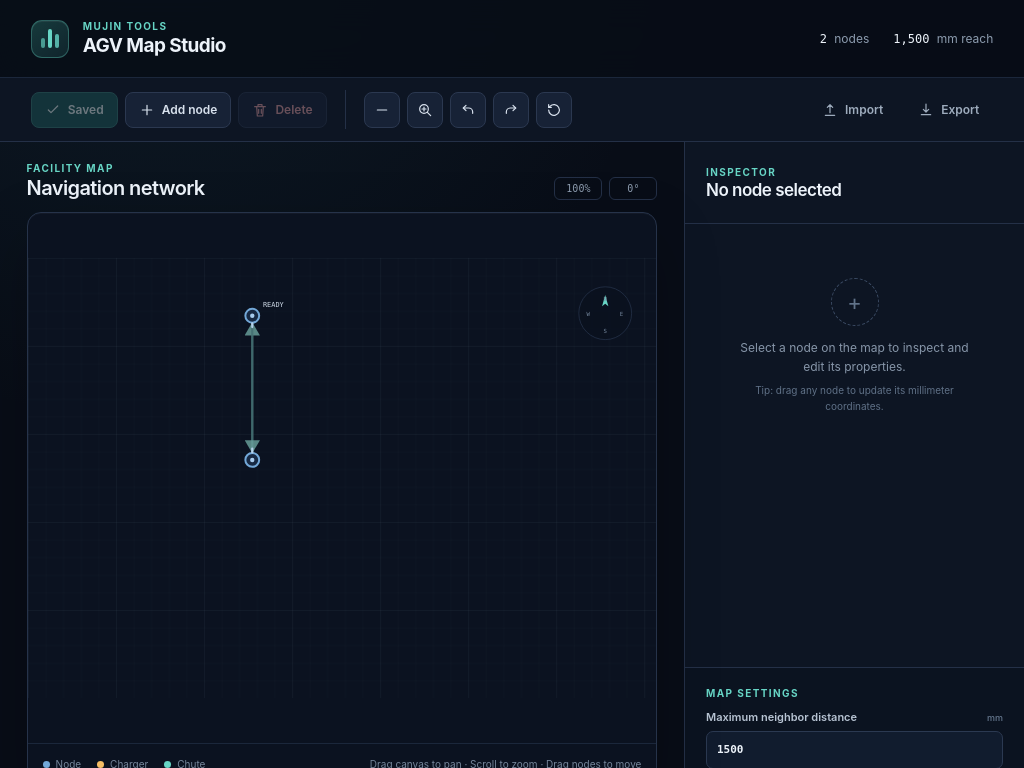
Test: App › keeps the draft available when a save fails
Replace the text in the number field labelled "Maximum neighbor distance" with "2200" at (854, 750), box [706,731,1003,767]
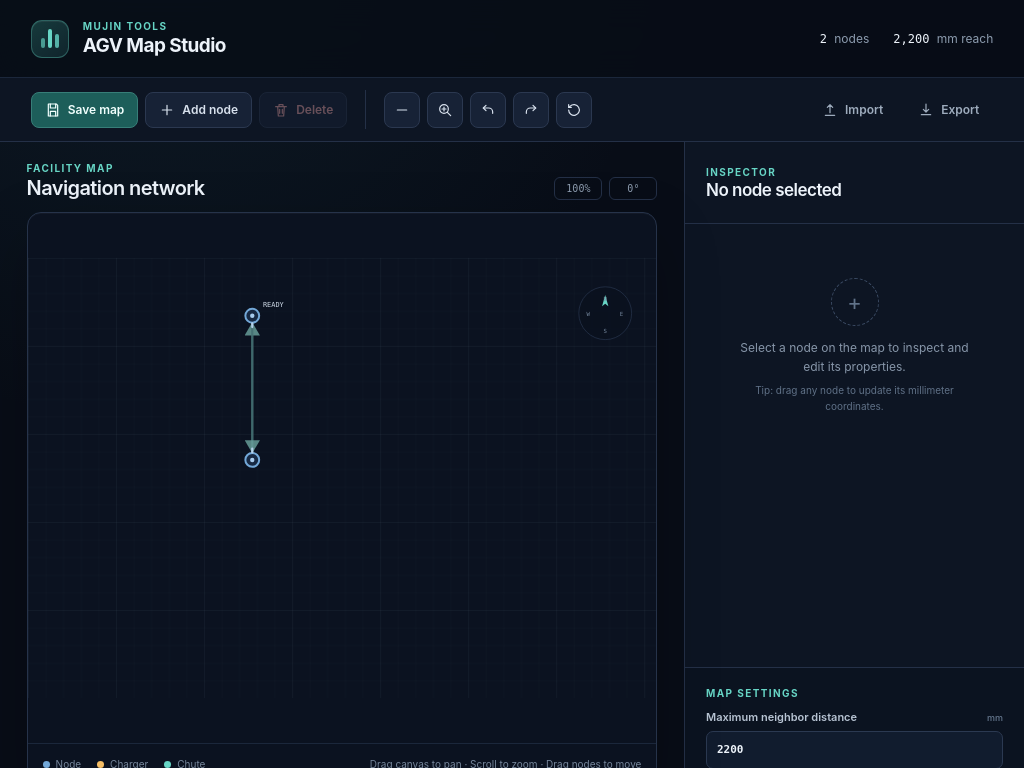
Click the button "Save map" at (84, 110), box [31,92,138,128]
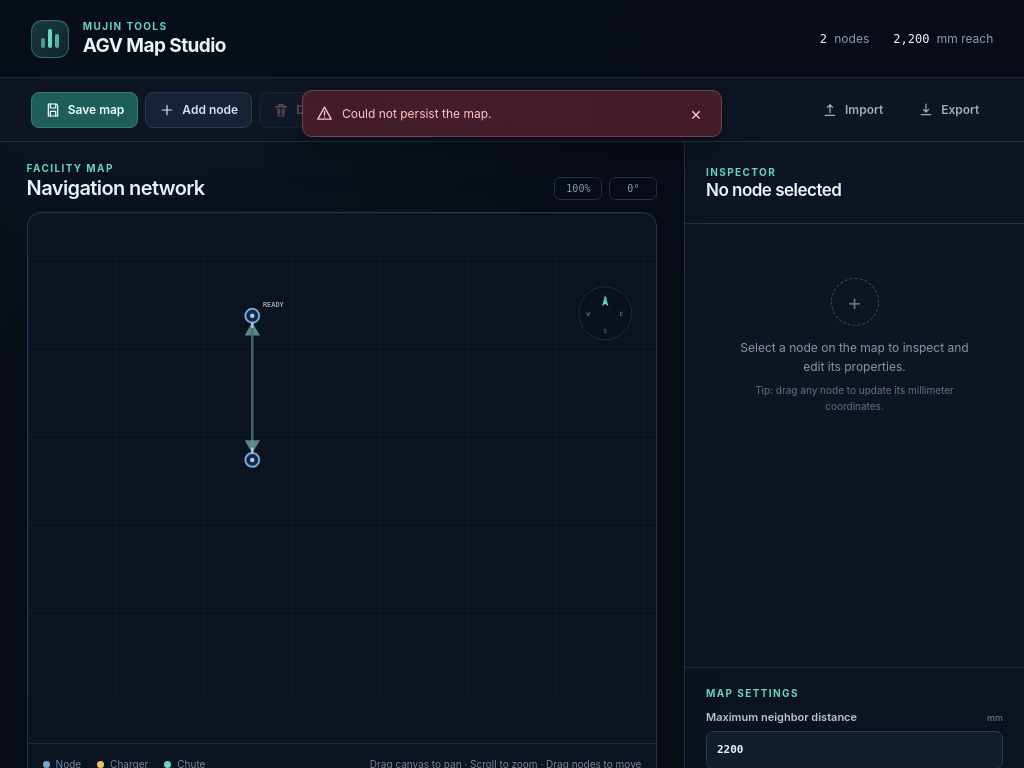
Result: the button "Save map" is enabled at [31,92,138,128]
Result: the text "Could not persist the map." is shown at [342,106,492,121]
